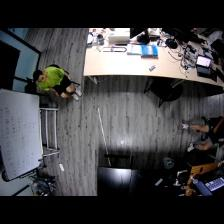normal: (31, 67, 85, 102), (182, 115, 224, 154)
